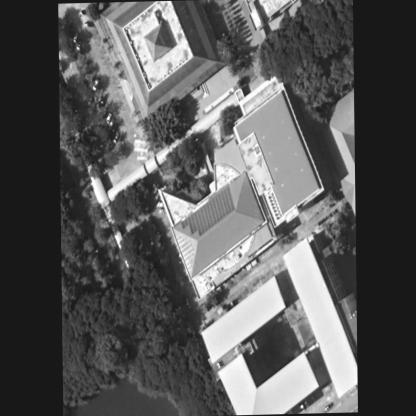solar-pv-panel: (181, 183, 235, 237)
